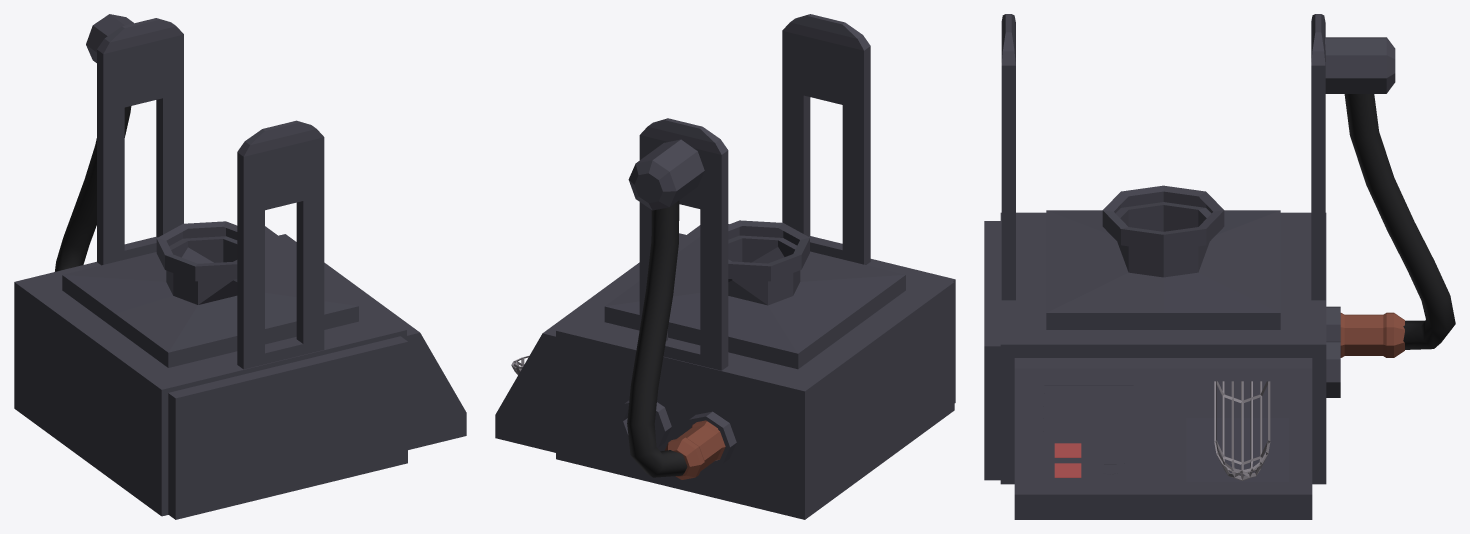
Rendered from bingo_machine_base.glb.
The picture shows the model from 3 angles, left to right: view 1: azimuth 30°, elevation 25°; view 2: azimuth 150°, elevation 25°; view 3: azimuth 270°, elevation 25°; orthographic projection. The views are drawn at different scales.
Visible parts, largest first — view 1: Base, Wire; view 2: Base, Wire, Plug; view 3: Base, Wire, Plug, Track, Dial.
Boxes of the visible parts, x1=… form: Base: x1=14, y1=14, x2=466, y2=519; Wire: x1=55, y1=106, x2=131, y2=271; Base: x1=495, y1=14, x2=955, y2=519; Wire: x1=627, y1=200, x2=687, y2=477; Plug: x1=665, y1=420, x2=725, y2=479; Base: x1=984, y1=14, x2=1395, y2=519; Wire: x1=1344, y1=94, x2=1455, y2=349; Plug: x1=1340, y1=312, x2=1404, y2=357; Track: x1=1214, y1=381, x2=1270, y2=480; Dial: x1=1095, y1=445, x2=1125, y2=474.
Size of the model in its own units: 0.4304 by 0.4525 by 0.4895.
